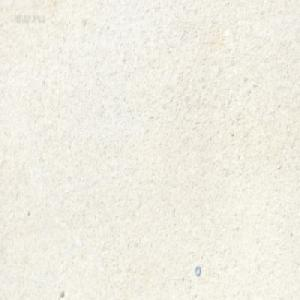Washer: (194, 265, 201, 277)
